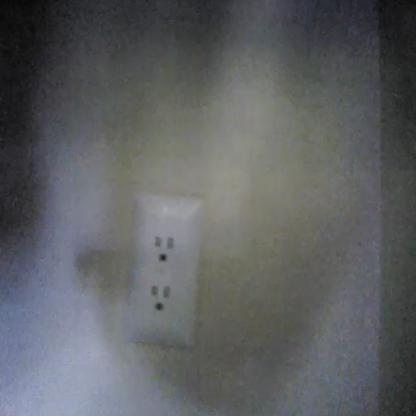OUTLET: (127, 194, 200, 348)
